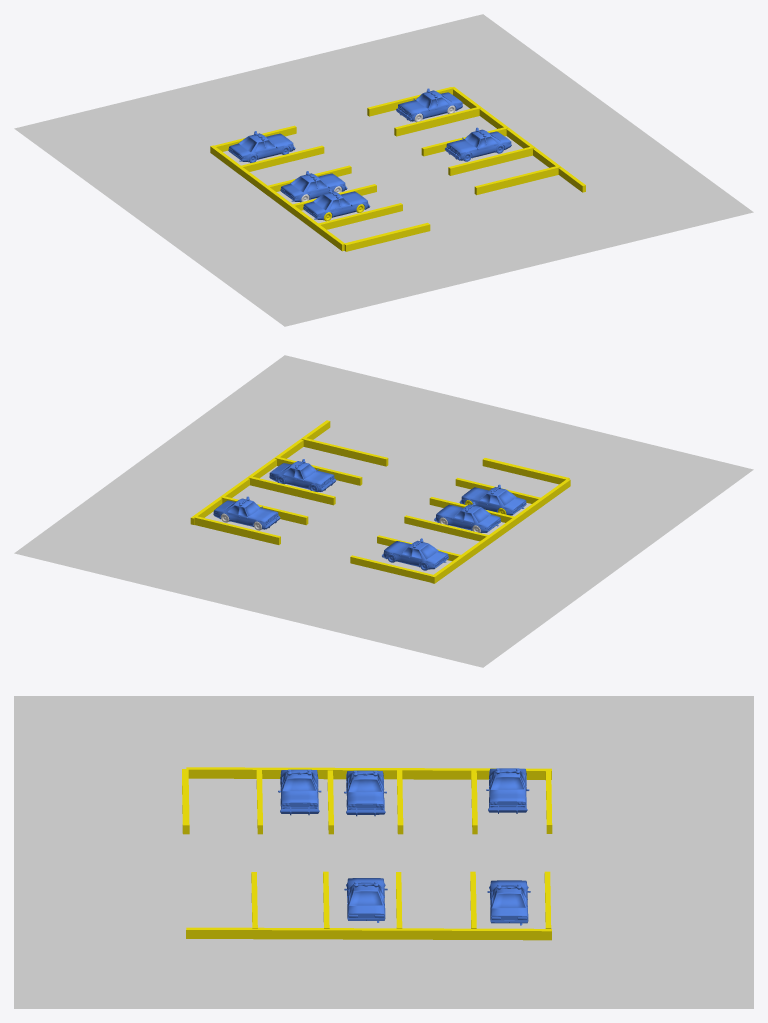
File: parking.dae
3 views of the same model, one above another, from view 1: azimuth 30°, elevation 25°; view 2: azimuth 150°, elevation 25°; view 3: azimuth 270°, elevation 25° (orthographic). The views are drawn at different scales.
Visible parts, largest first — view 1: Plane.001, Cube.008, car9.002, Cube.012, car9.003, car9.004, car9, car9.001, Cube.010, Cube.007, Cube.006, Cube.005 (+2 smaller); view 2: Plane.001, Cube.008, Cube.012, car9.002, car9.003, car9.004, car9.001, car9, Cube.009, Cube.006, Cube.011, Cube.005 (+2 smaller); view 3: Plane.001, Cube.012, Cube.008, car9, car9.001, car9.004, car9.002, car9.003.
Boxes of the visible parts, x1,y1,x2,y2 form: Plane.001: [14, 14, 753, 326]; Cube.008: [210, 145, 345, 251]; car9.002: [396, 88, 462, 121]; Cube.012: [452, 87, 585, 192]; car9.003: [445, 127, 511, 160]; car9.004: [228, 131, 295, 162]; car9: [303, 189, 370, 220]; car9.001: [280, 171, 347, 202]; Cube.010: [394, 107, 480, 136]; Cube.007: [448, 146, 534, 175]; Cube.006: [474, 165, 560, 195]; Cube.005: [344, 222, 430, 251]; Plane.001: [14, 355, 753, 667]; Cube.008: [431, 479, 570, 583]; Cube.012: [190, 420, 330, 524]; car9.002: [213, 496, 280, 529]; car9.003: [269, 459, 336, 491]; car9.004: [382, 538, 448, 569]; car9.001: [434, 502, 501, 532]; car9: [459, 484, 526, 515]; Cube.009: [194, 516, 280, 544]; Cube.006: [301, 437, 388, 466]; Cube.011: [249, 476, 335, 505]; Cube.005: [482, 458, 569, 484]; Plane.001: [14, 696, 753, 1008]; Cube.012: [186, 927, 551, 940]; Cube.008: [186, 767, 551, 779]; car9: [278, 769, 321, 815]; car9.001: [344, 770, 386, 816]; car9.004: [486, 768, 529, 813]; car9.002: [487, 880, 530, 925]; car9.003: [344, 878, 387, 922].
Size of the model in its own units: 36.1 by 36.1 by 1.77.
